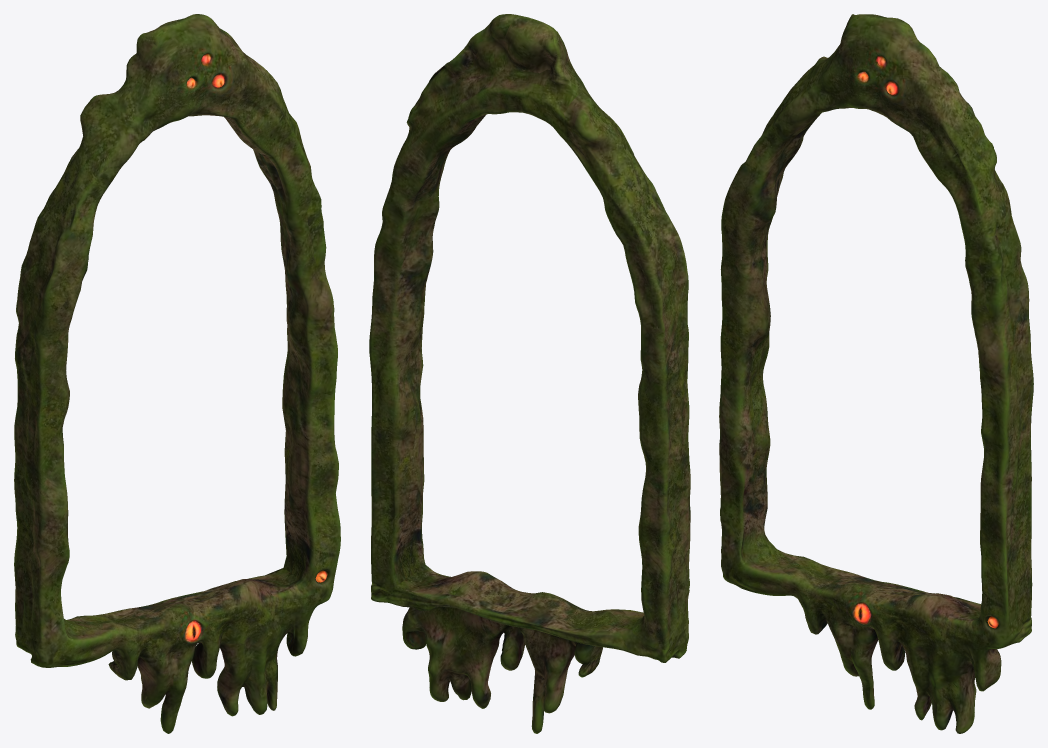
The model's file is MZ4250 - Alkilith.glb.
The picture shows the model from 3 angles, left to right: view 1: azimuth 30°, elevation 25°; view 2: azimuth 150°, elevation 25°; view 3: azimuth 330°, elevation 25°; orthographic projection. The views are drawn at different scales.
Visible parts, largest first — view 1: Cube.001; view 2: Cube.001; view 3: Cube.001.
Boxes of the visible parts, left/top/right/bottom form: Cube.001: left=14, top=14, right=340, bottom=733; Cube.001: left=369, top=14, right=690, bottom=733; Cube.001: left=719, top=14, right=1033, bottom=733.
Size of the model in its own units: 0.5597 by 1.27 by 0.1188.
1 material, 1 textured.
